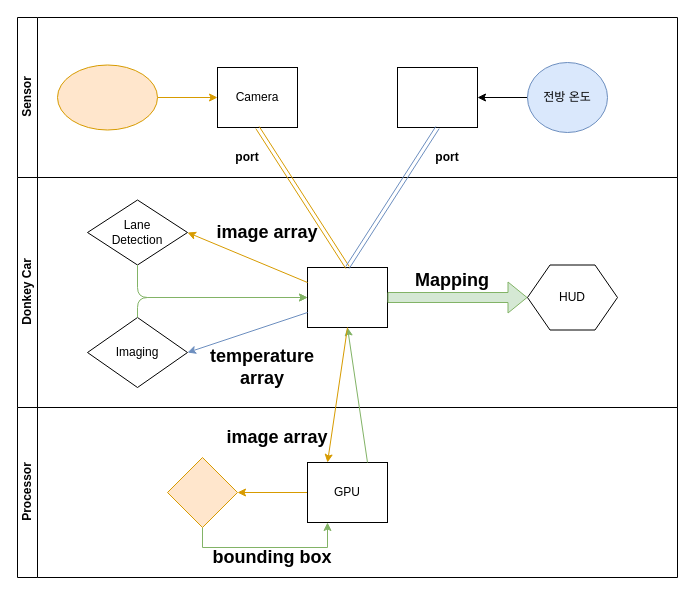
The diagram is 695 pixels wide and 595 high, and some of its shapes have lost their labels. Here are the shapes that lost their labels. From the top down, the centre of each, then its label:
At (x=107, y=97): "도로 주행 이미지".
At (x=437, y=97): "Temperature Sensor".
At (x=347, y=297): "Raspberry pi".
At (x=202, y=492): "YOLO".
